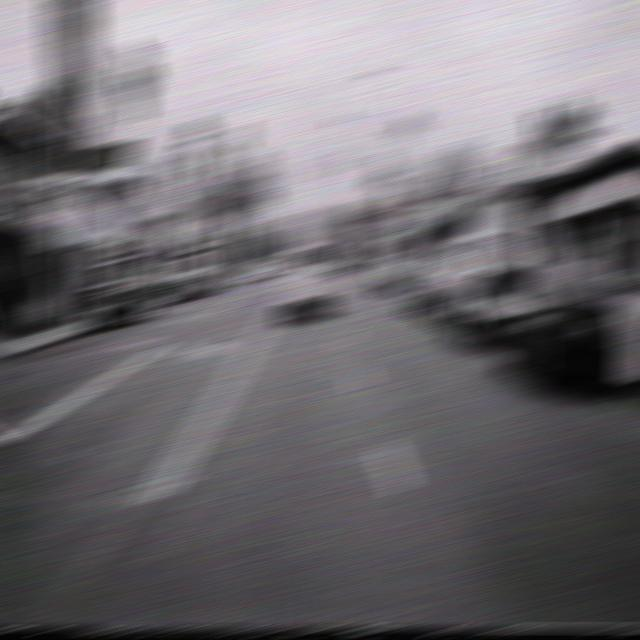pedestrianCrossing: (490, 146, 525, 187)
